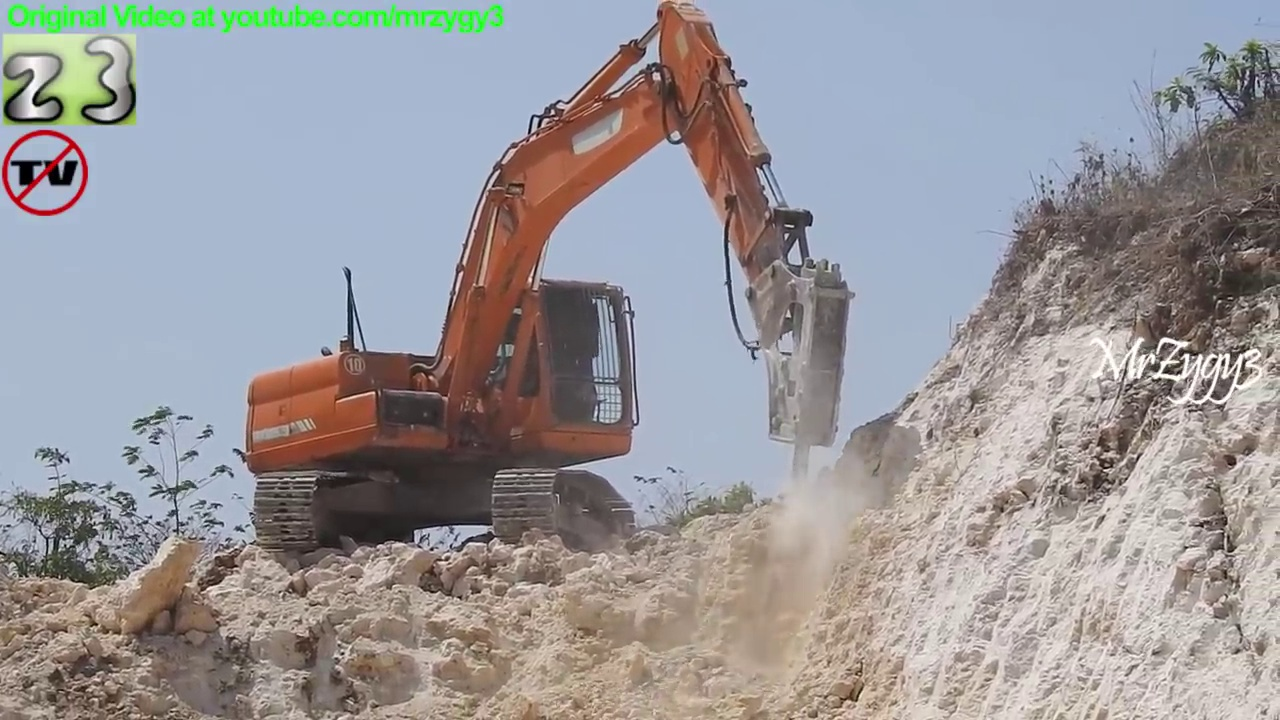excavator breaker: (233, 1, 864, 565)
